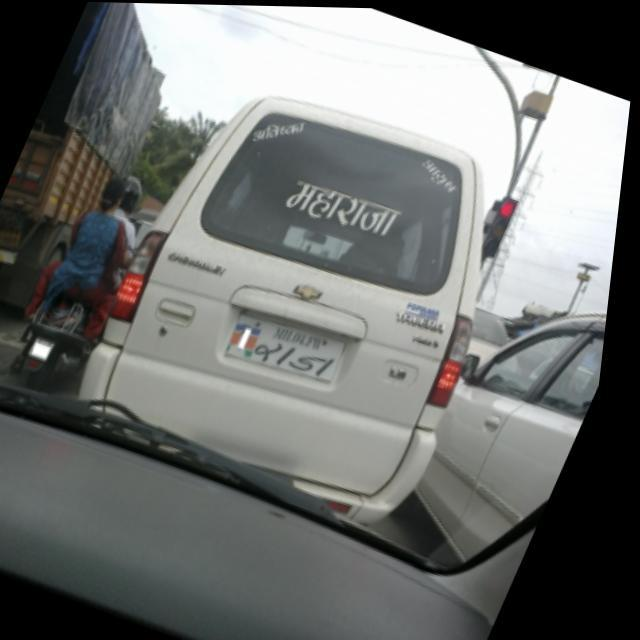license_plate: (224, 302, 358, 387)
